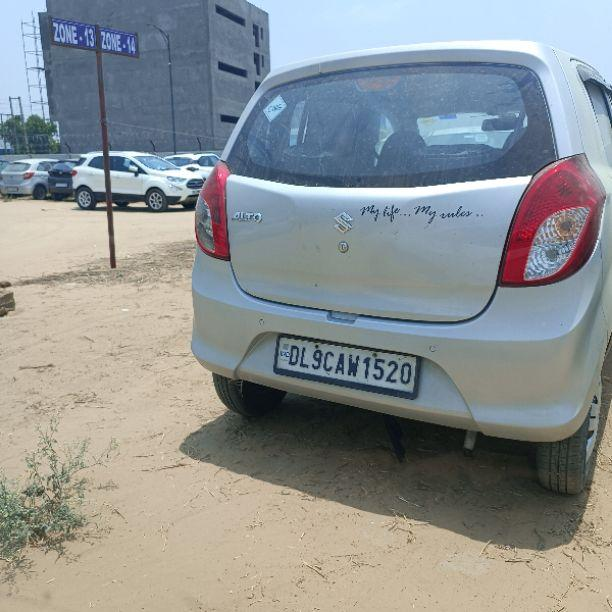license_plate: (272, 332, 421, 399)
